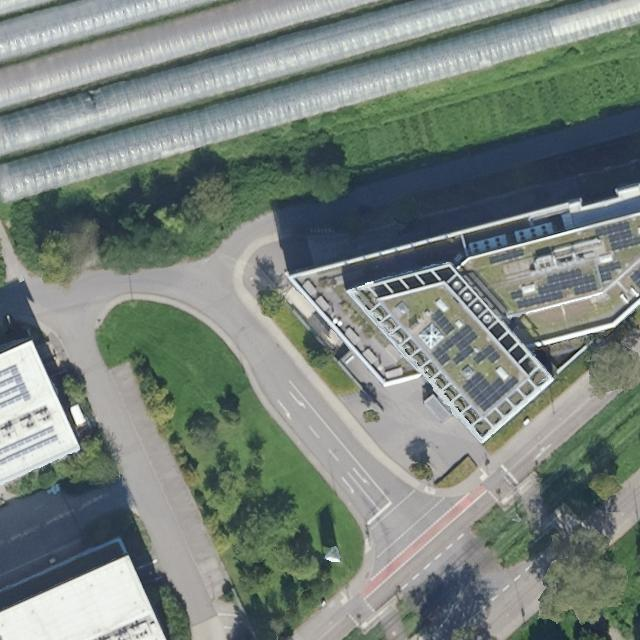PV: (430, 307, 504, 369), (509, 267, 599, 311), (460, 369, 520, 414), (0, 434, 62, 468), (0, 424, 57, 457), (0, 363, 33, 411), (594, 218, 639, 252), (487, 245, 526, 267), (597, 259, 623, 284), (629, 265, 639, 289)
